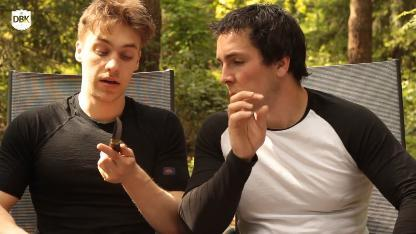knife: (92, 109, 136, 173)
